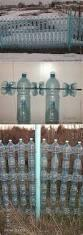Plastic bottle: (8, 68, 35, 125), (44, 69, 64, 133)
